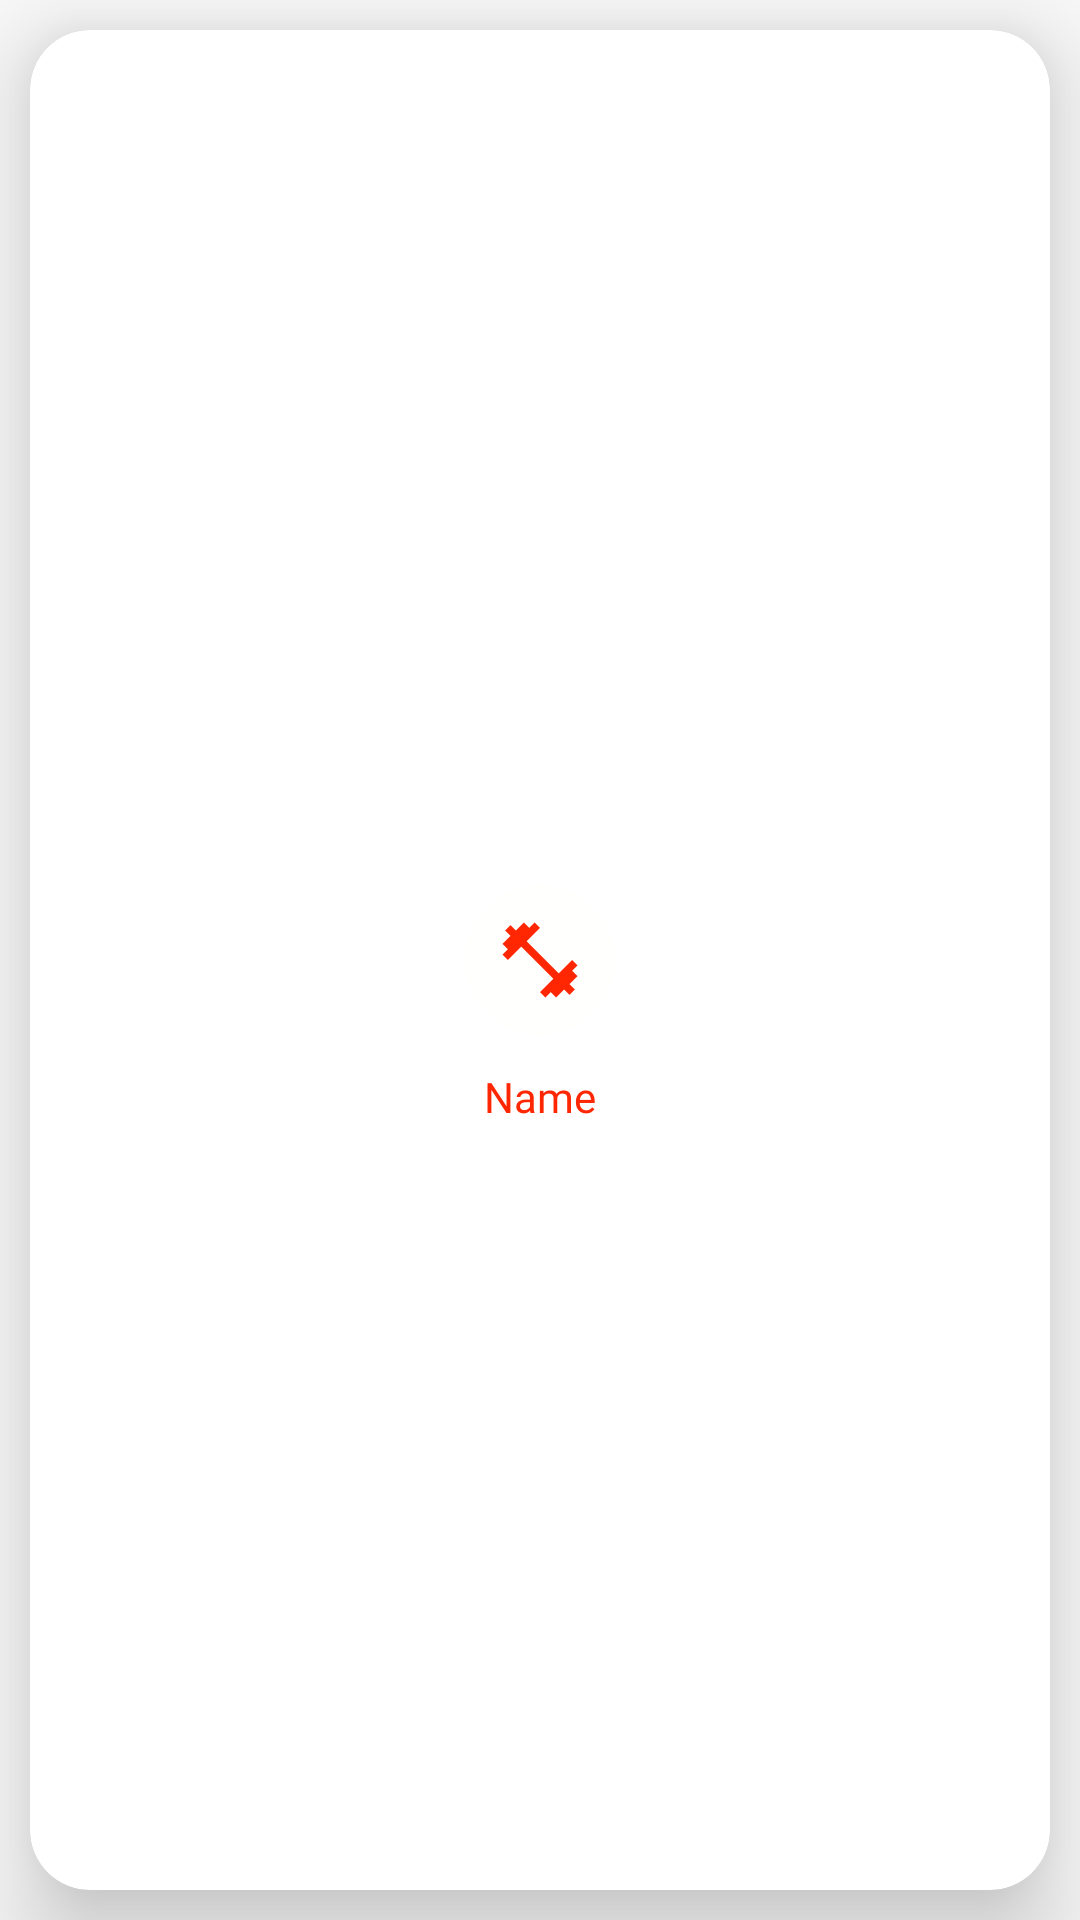

Icon click points for this 1080×1920 phone screenshot, format point (x, y):
fitness: point (540, 960)
